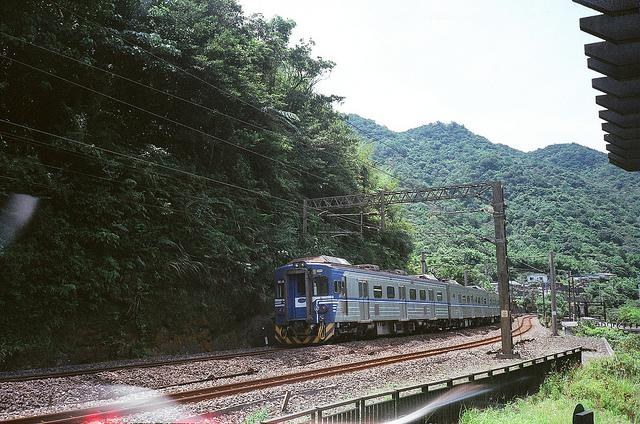Train: (271, 259, 503, 346)
